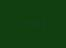four: (18, 20, 23, 28), (36, 19, 41, 27)
nine: (42, 19, 47, 27)
one: (24, 20, 29, 28)
seven: (30, 20, 35, 27)
